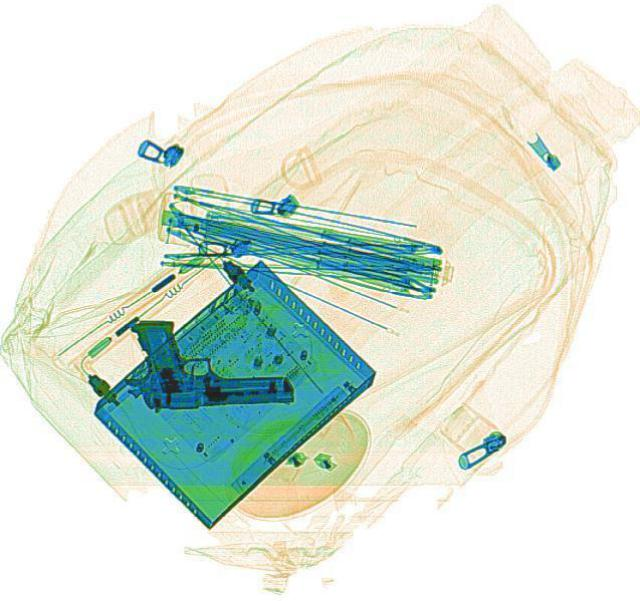Gun: (116, 309, 296, 412)
